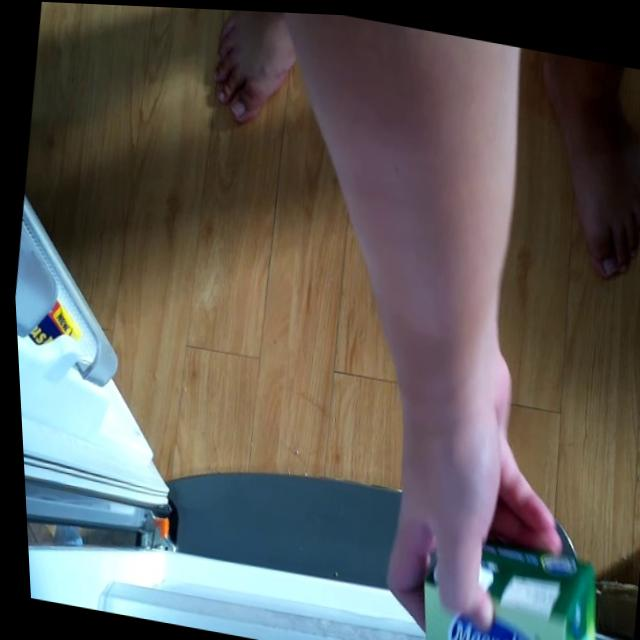milk: (403, 525, 609, 640)
